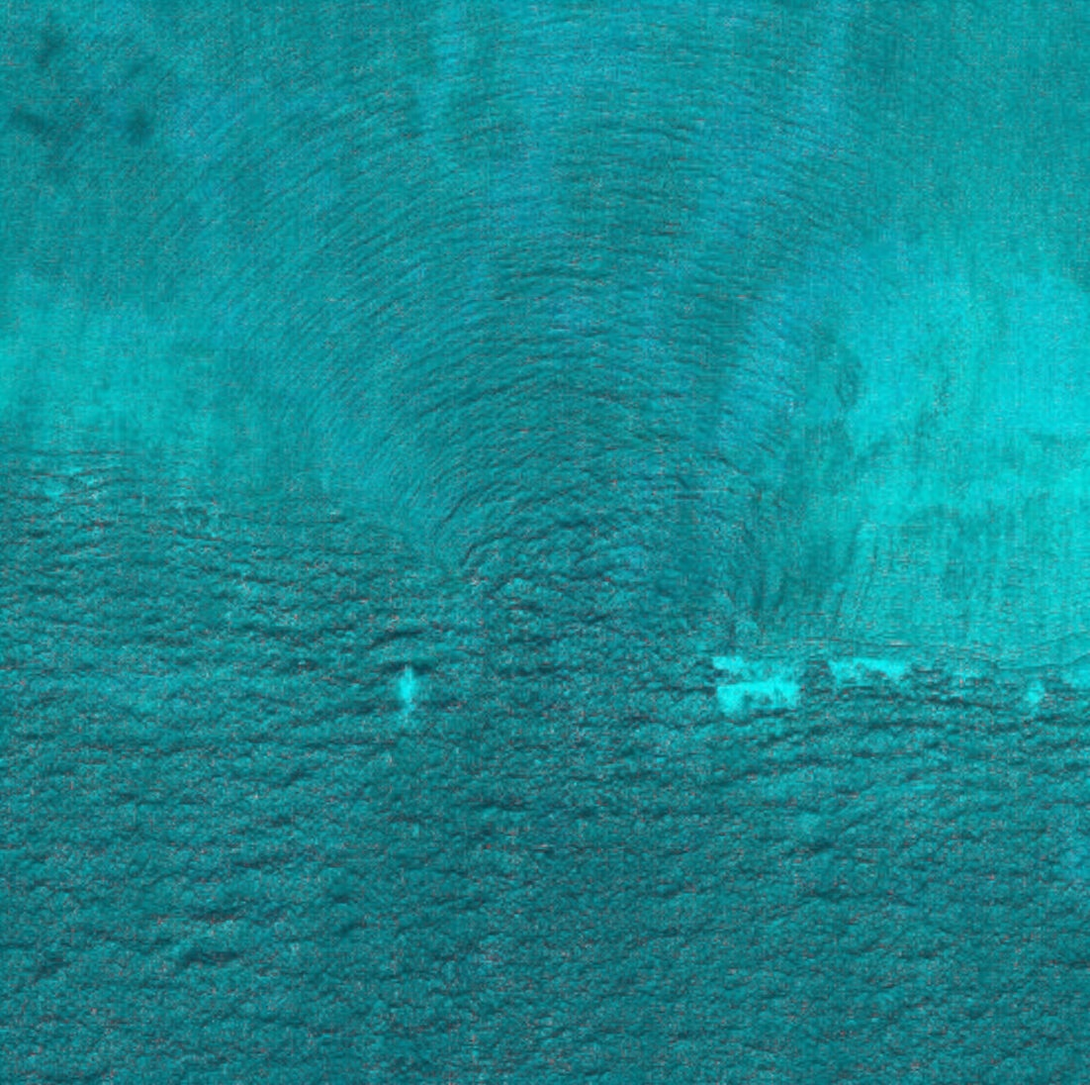rip_current: (391, 292, 818, 851)
